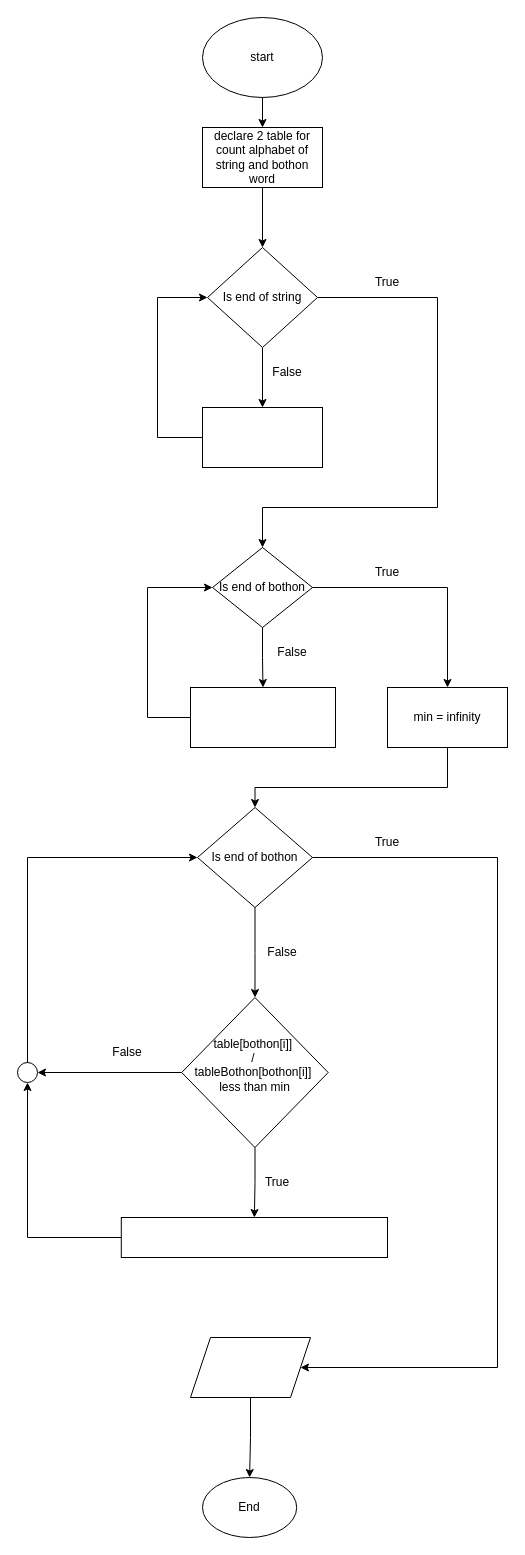
Some shapes in this 525 by 1555 pixel diagram are drawn without their labels. The shapes that lost their labels are listed below. From the top down, each one's centre as x and y in pixels, then its label:
the point at 262,437: table[string[i]]++
the point at 263,717: tableBothon[bothon[i]]++
the point at 254,1237: min = table[bothon[i]] / tableBothon[bothon[i]]
the point at 250,1367: print min
